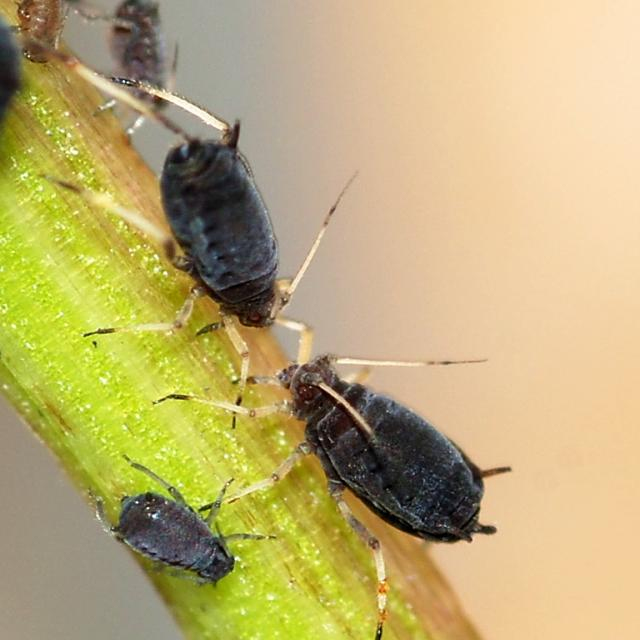Aphid-Grown-: (65, 73, 360, 374), (206, 349, 529, 591), (74, 447, 273, 603)
